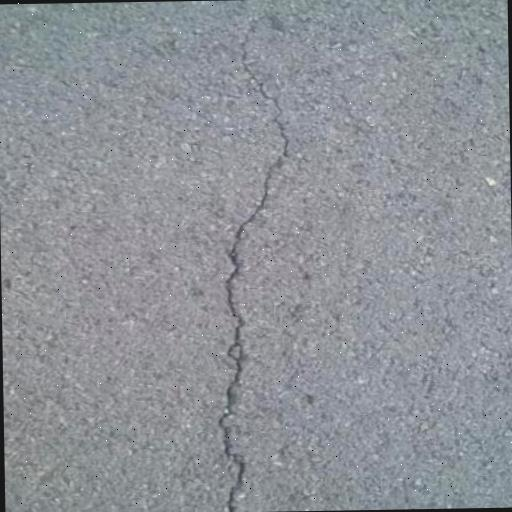spalling: (203, 10, 306, 510)
